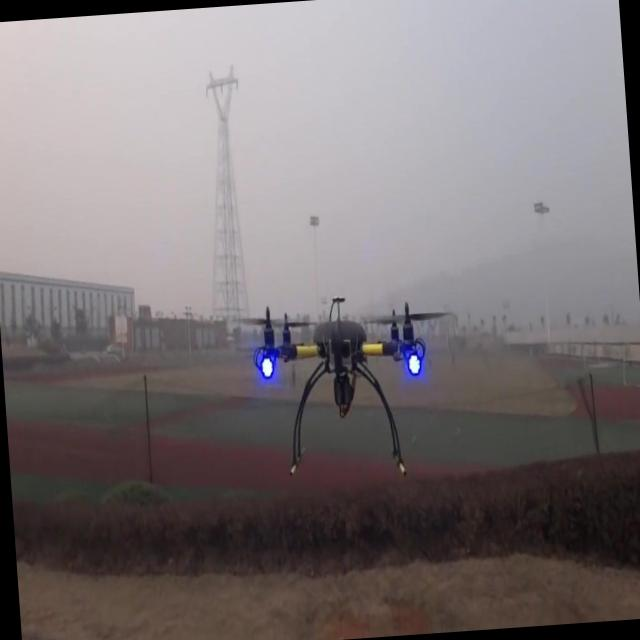drone: (238, 285, 456, 491)
